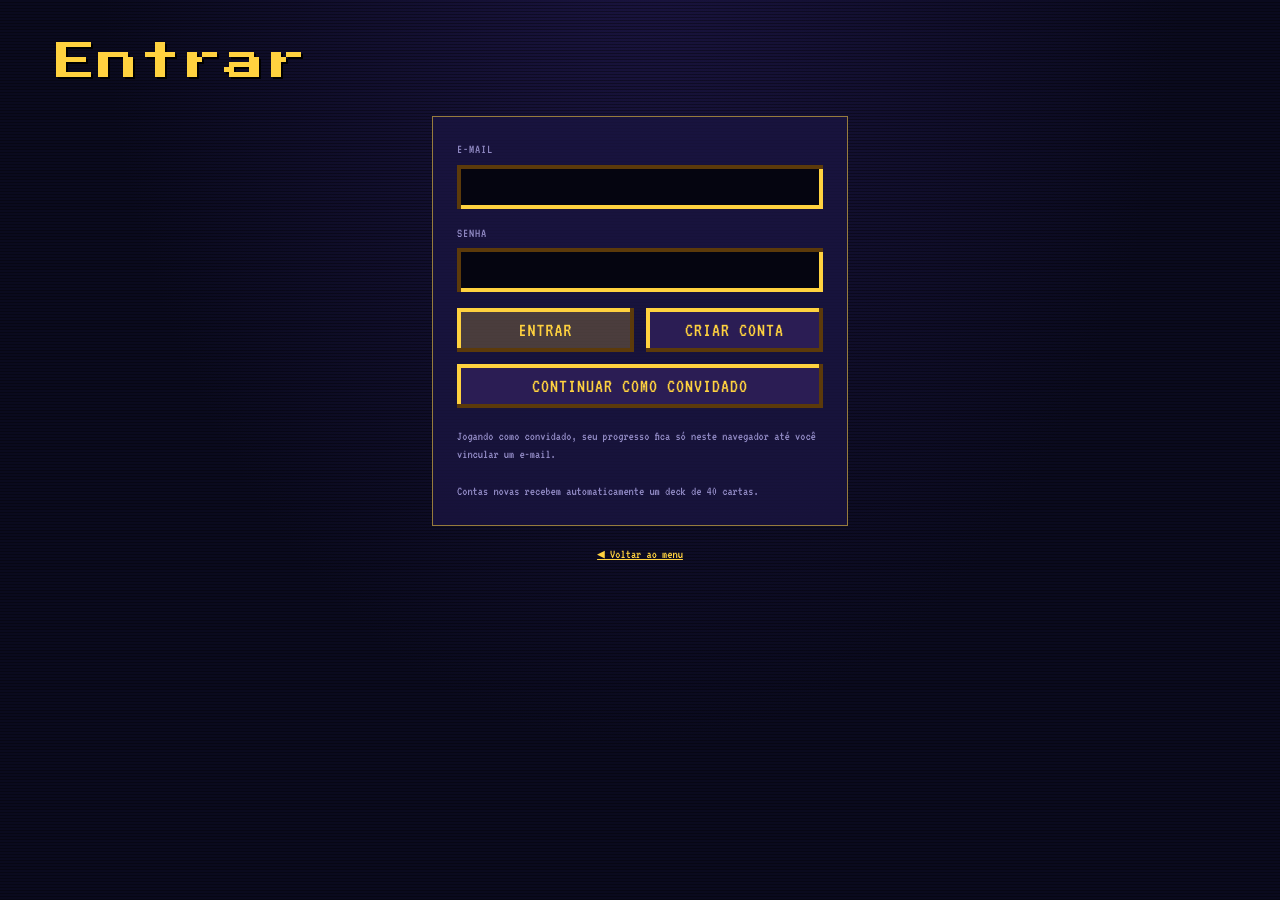
Test: LoginForm guest entry › shows a failure message when the guest sign-in fails
What coordinates should you click on to do the following:
click the button "Continuar como convidado"
I would click on:
 (640, 386)
Its box is [457, 364, 823, 408].
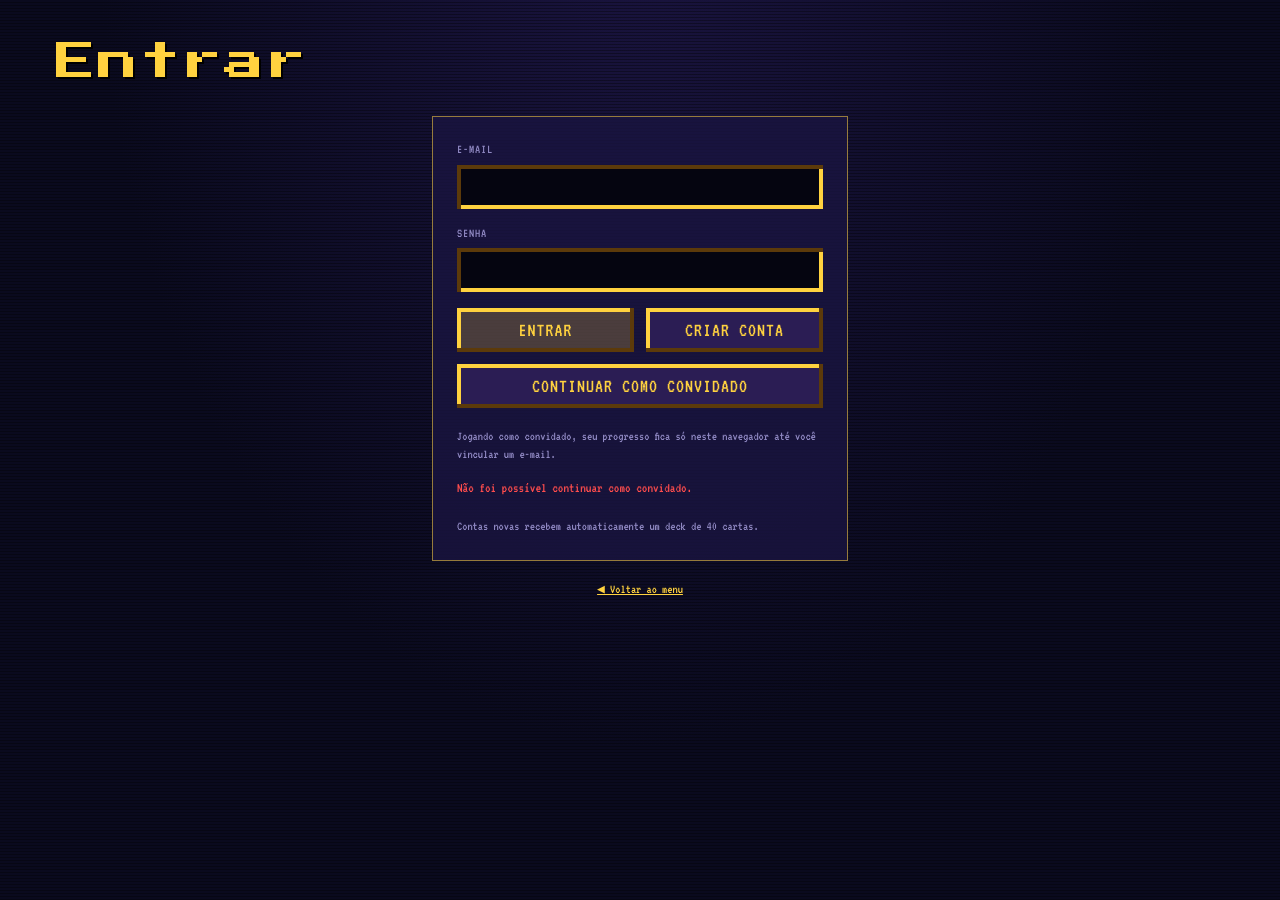
Expected: the text "Não foi possível continuar como convidado." is shown, [457, 481, 692, 495]
